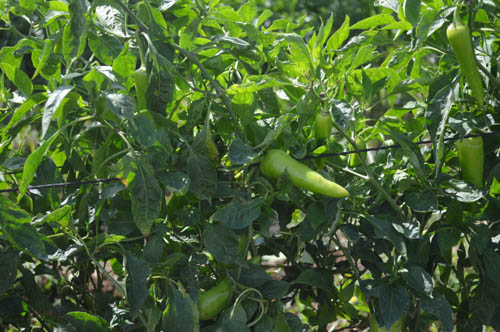ChiliPepper: (261, 145, 352, 205), (444, 22, 486, 107), (185, 278, 235, 324), (454, 131, 488, 192), (129, 62, 164, 110), (346, 133, 371, 170), (313, 106, 335, 147)
